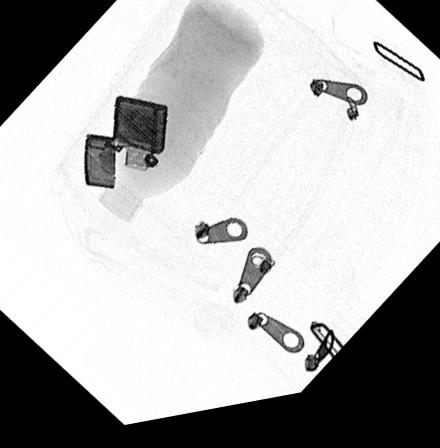Lighter: (83, 100, 168, 194)
